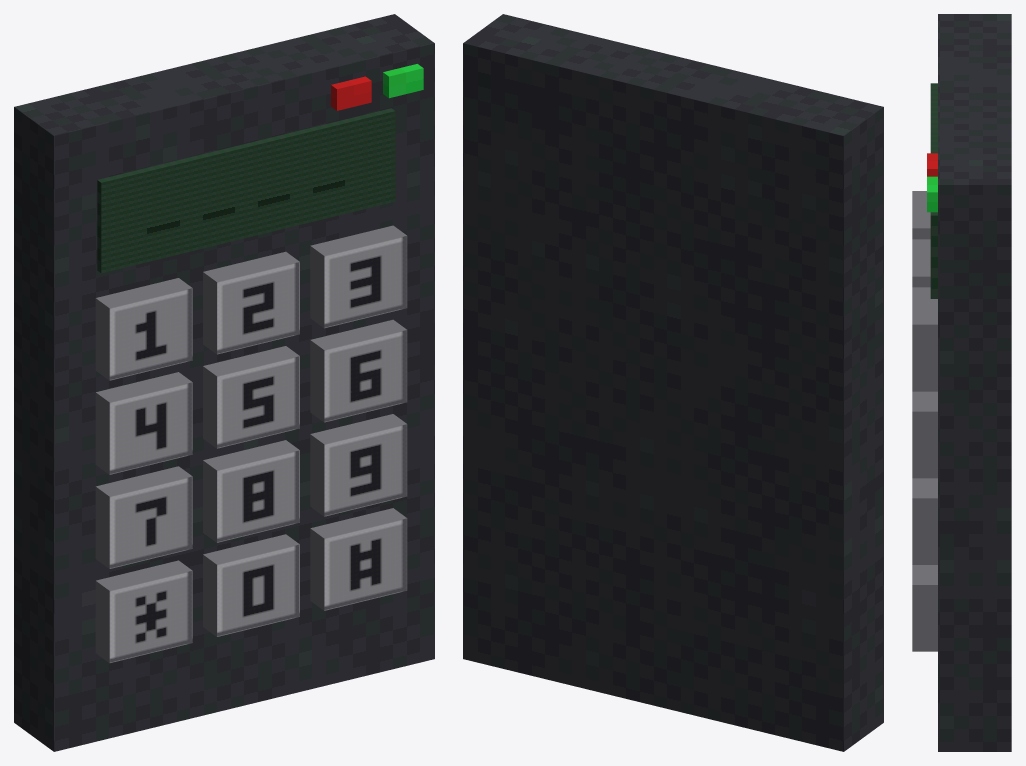
The model's file is Keypad.fbx.
The picture shows the model from 3 angles, left to right: view 1: azimuth 30°, elevation 25°; view 2: azimuth 150°, elevation 25°; view 3: azimuth 270°, elevation 25°; orthographic projection. The views are drawn at different scales.
Visible parts, largest first — view 1: Keypad, Screen, Key_9, Key_7, Key_3, Key_4, Key_6, Key_1, Key_Star, Key_Hash, Key_2, Key_0 (+4 smaller); view 2: Keypad; view 3: Keypad, Key_3, Key_6, Key_9, Key_Hash, Screen, Key_2, Key_1, Led_Green, Led_Red.
Boxes of the visible parts, box(x1,y1,x2,y2) form: Keypad: box(14, 14, 434, 751); Screen: box(97, 108, 395, 273); Key_9: box(310, 414, 407, 516); Key_7: box(95, 466, 192, 568); Key_3: box(310, 225, 407, 328); Key_4: box(95, 372, 192, 474); Key_6: box(310, 319, 407, 422); Key_1: box(95, 278, 192, 380); Key_Star: box(95, 560, 192, 663); Key_Hash: box(310, 508, 407, 610); Key_2: box(203, 251, 299, 354); Key_0: box(203, 534, 299, 636); Keypad: box(463, 14, 883, 751); Keypad: box(938, 14, 1011, 751); Key_3: box(912, 287, 937, 391); Key_6: box(912, 391, 937, 478); Key_9: box(912, 478, 937, 564); Key_Hash: box(912, 565, 937, 651); Screen: box(930, 83, 937, 298); Key_2: box(912, 239, 930, 287); Key_1: box(912, 191, 930, 239); Led_Green: box(927, 176, 937, 212); Led_Red: box(927, 153, 937, 176).
Bounding box in the file's own units: 0.22 × 0.34 × 0.054.
Materials: 5 (5 with a texture image).
